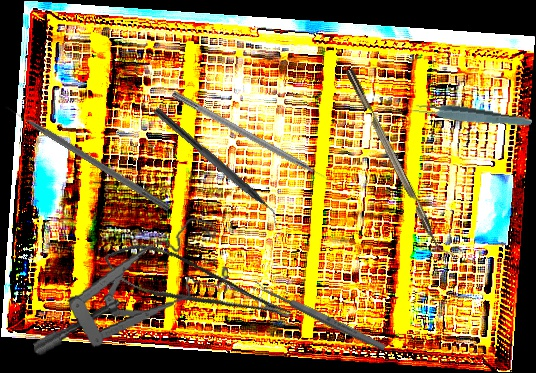Chopper: (345, 63, 455, 263), (145, 105, 289, 232)
Hook Surgical: (4, 101, 172, 212), (170, 89, 341, 190)
Micro Scissor: (97, 227, 295, 352)
Speculum: (20, 214, 236, 358)
Surgical Spoon: (251, 279, 387, 353)
Tissue Forceps: (411, 99, 533, 131)
